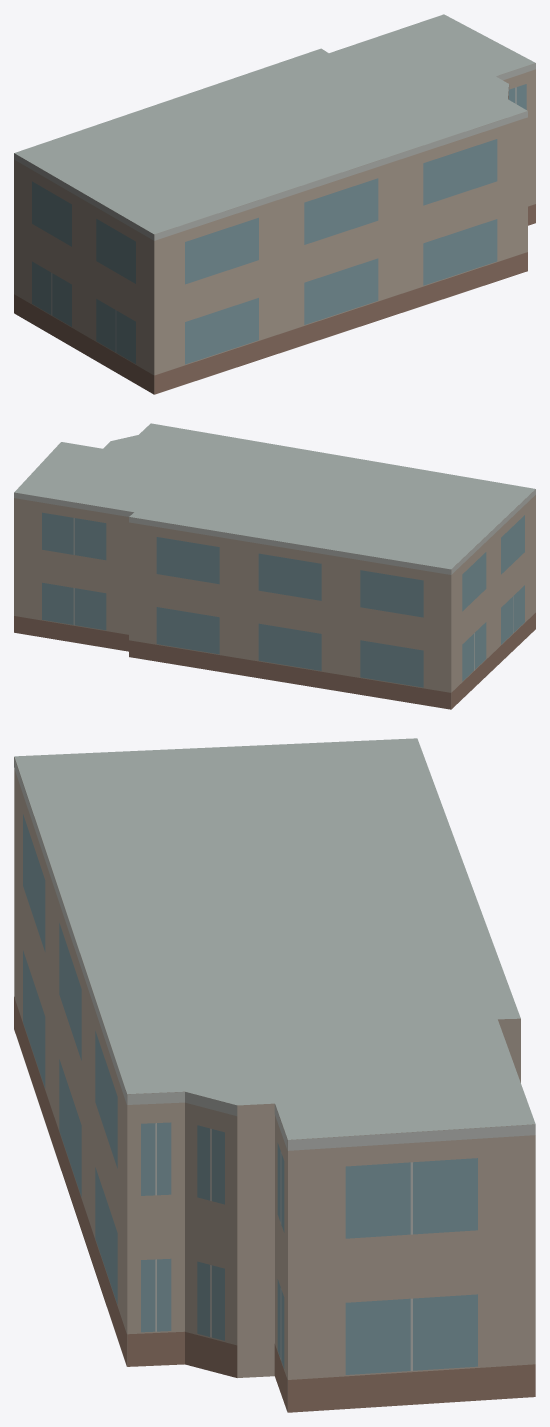
Rendered from survey-upis-32861507.glb.
The picture shows the model from 3 angles, top to bottom: view 1: azimuth 30°, elevation 25°; view 2: azimuth 150°, elevation 25°; view 3: azimuth 270°, elevation 25°; orthographic projection. The views are drawn at different scales.
Visible parts, largest first — view 1: survey-upis-32861507.tmp; view 2: survey-upis-32861507.tmp; view 3: survey-upis-32861507.tmp.
Part boxes in pixels (<box>): survey-upis-32861507.tmp: <box>14,14,535,394</box>; survey-upis-32861507.tmp: <box>14,423,535,709</box>; survey-upis-32861507.tmp: <box>14,738,535,1412</box>.
Size of the model in its own units: 19.29 by 6.1 by 10.59.
